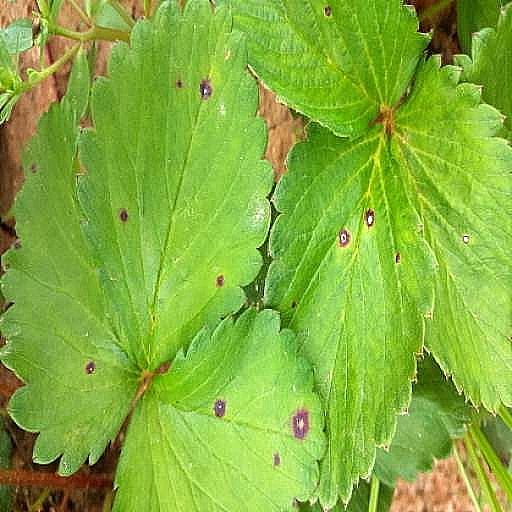Leaf Spot: (237, 130, 436, 511), (72, 0, 248, 393), (367, 33, 511, 416), (0, 96, 127, 461), (183, 0, 402, 207), (78, 374, 293, 511)
